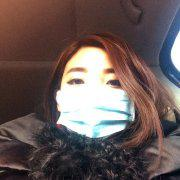OK: (64, 64, 140, 140)
